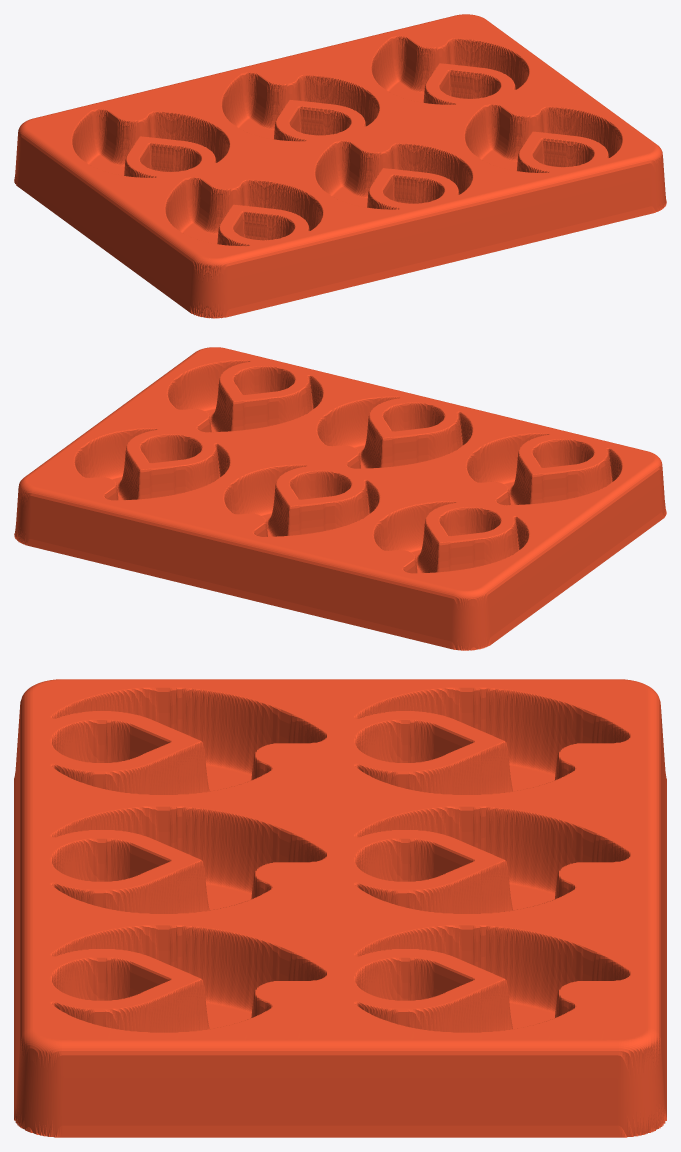
The model's file is mold.glb.
The picture shows the model from 3 angles, top to bottom: view 1: azimuth 30°, elevation 25°; view 2: azimuth 150°, elevation 25°; view 3: azimuth 270°, elevation 25°; orthographic projection. The views are drawn at different scales.
Parts seen in each view (by area): view 1: geometry_0; view 2: geometry_0; view 3: geometry_0.
Part boxes in pixels (box(x1,y1,x2,y2)): geometry_0: box(14, 14, 666, 318); geometry_0: box(14, 347, 666, 650); geometry_0: box(14, 679, 666, 1137).
Bounding box in the file's own units: 0.1666 × 0.0185 × 0.1222.
